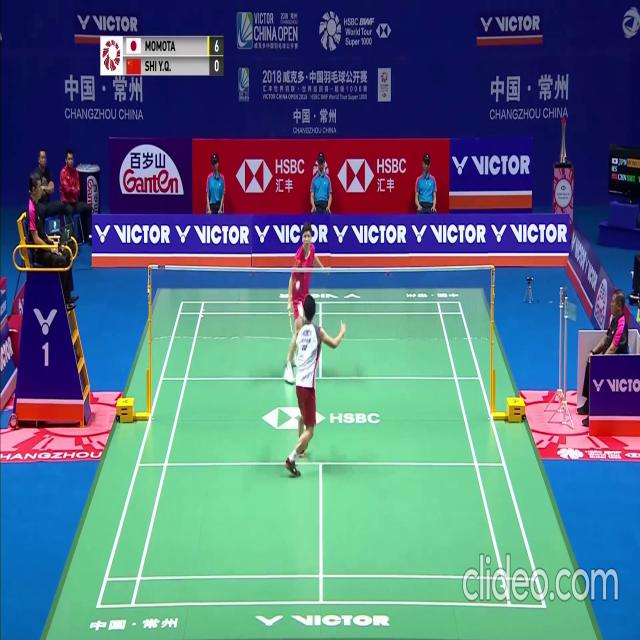Shuttlecock: (295, 280, 300, 288)
